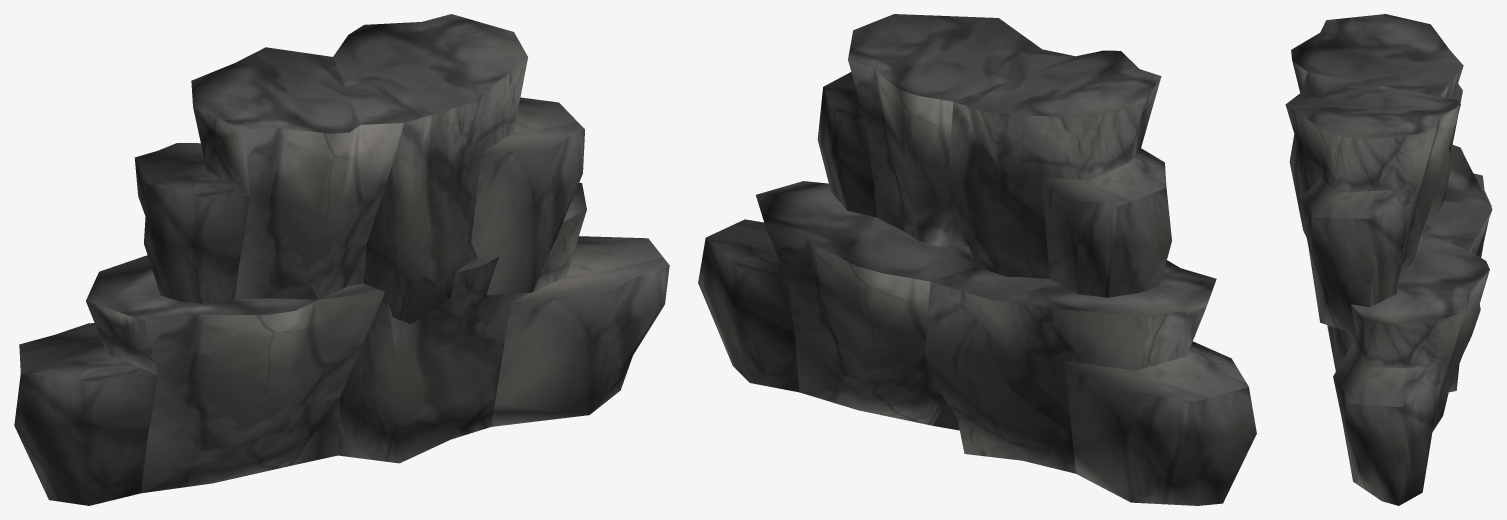
File: M_gake6.fbx
The picture shows the model from 3 angles, left to right: view 1: azimuth 30°, elevation 25°; view 2: azimuth 150°, elevation 25°; view 3: azimuth 270°, elevation 25°; orthographic projection. The views are drawn at different scales.
Parts seen in each view (by area): view 1: M_gake6; view 2: M_gake6; view 3: M_gake6.
Part boxes in pixels (x1,y1,x2,y2): M_gake6: (14, 14, 669, 505); M_gake6: (698, 14, 1256, 505); M_gake6: (1285, 14, 1492, 505).
Size of the model in its own units: 7914 by 4676 by 2771.
Materials: 1 (1 with a texture image).
